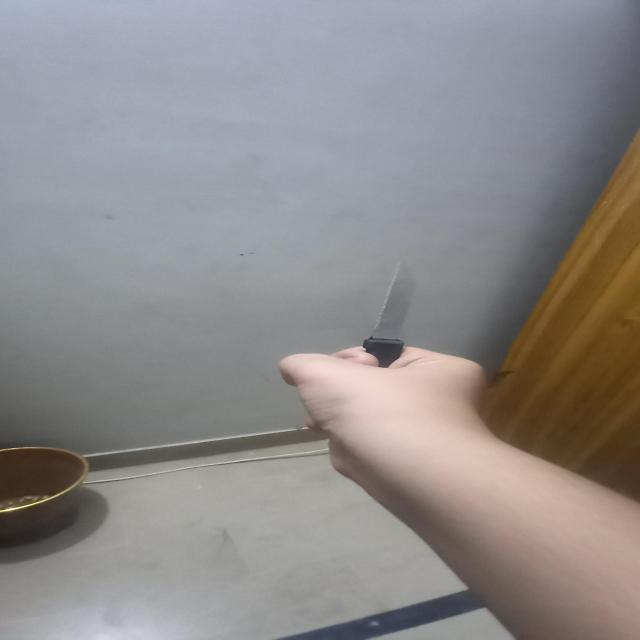faca: (362, 264, 424, 368)
